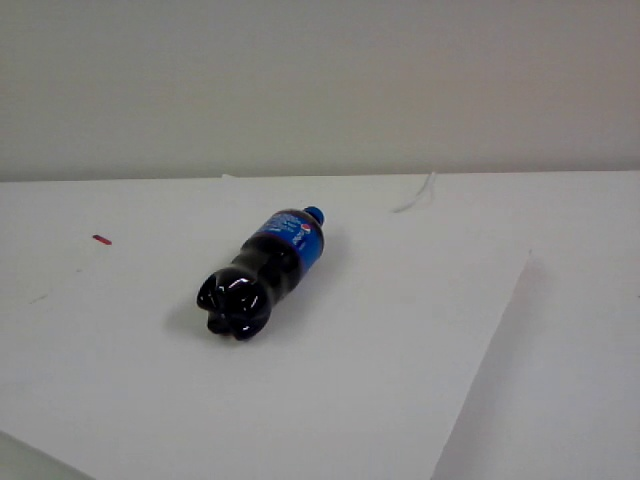botolplastik: (198, 207, 327, 339)
